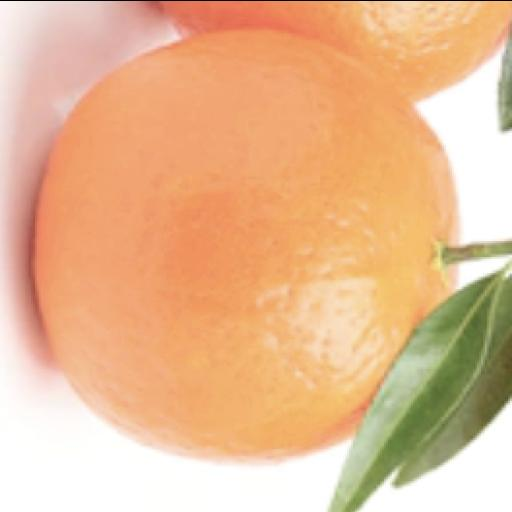orange: (32, 32, 456, 461), (159, 1, 511, 100)
